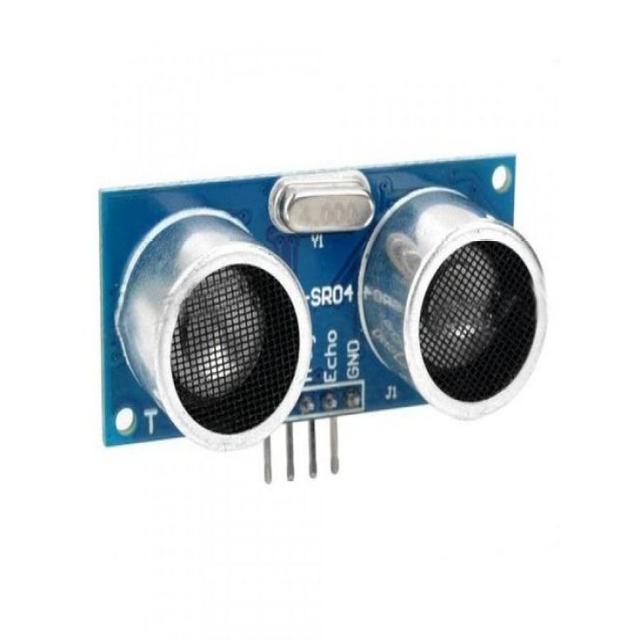Ultrasonic Sensor: (83, 131, 562, 510)
